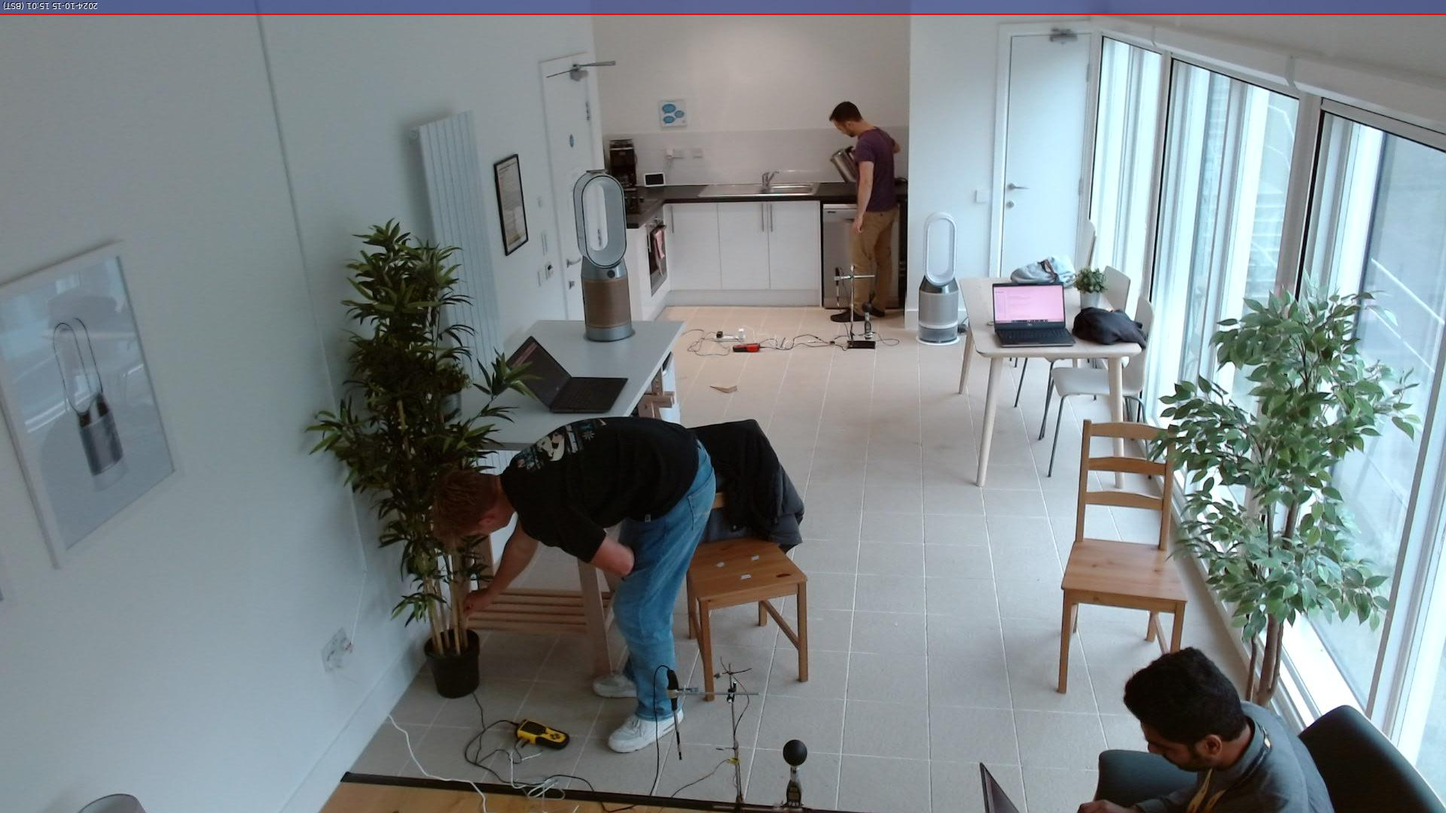long sleeve shirt: (1127, 698, 1336, 812)
short sleeve shirt: (497, 414, 702, 567), (850, 127, 898, 214)
trousers: (610, 434, 718, 719), (845, 207, 897, 311)
